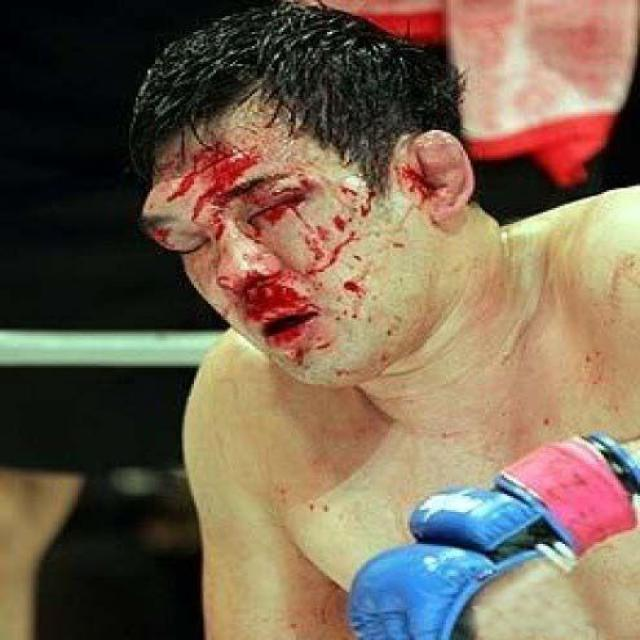flood: (169, 142, 247, 211), (234, 282, 322, 322)
